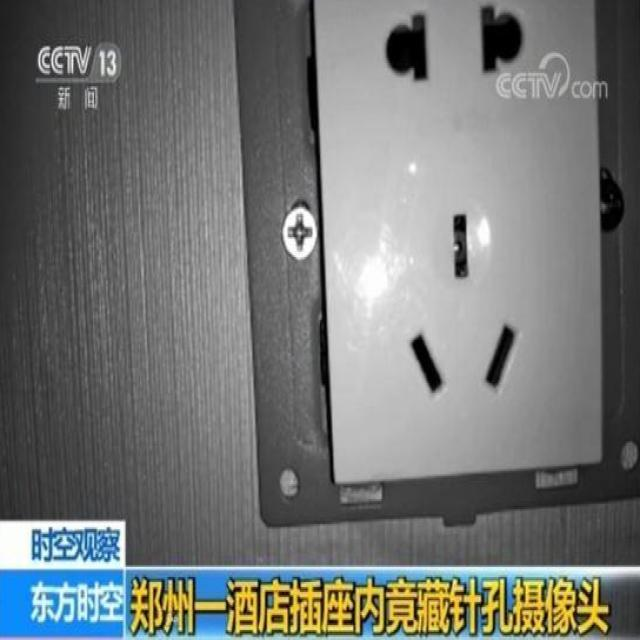hidden camera: (451, 224, 470, 273)
